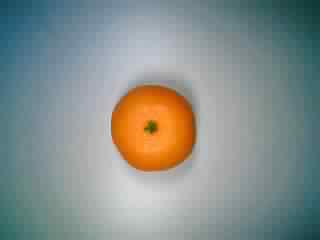orange: (106, 79, 204, 173)
